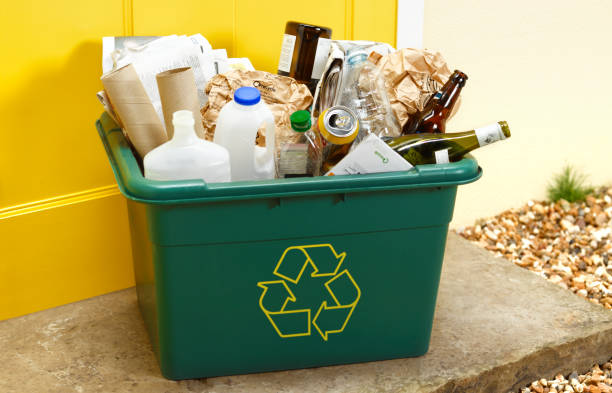glass: (382, 125, 513, 158), (406, 69, 466, 126), (281, 21, 328, 86)
metal: (318, 107, 360, 157)
paper: (106, 61, 161, 148)
plastic: (146, 111, 226, 187), (217, 91, 277, 181)
